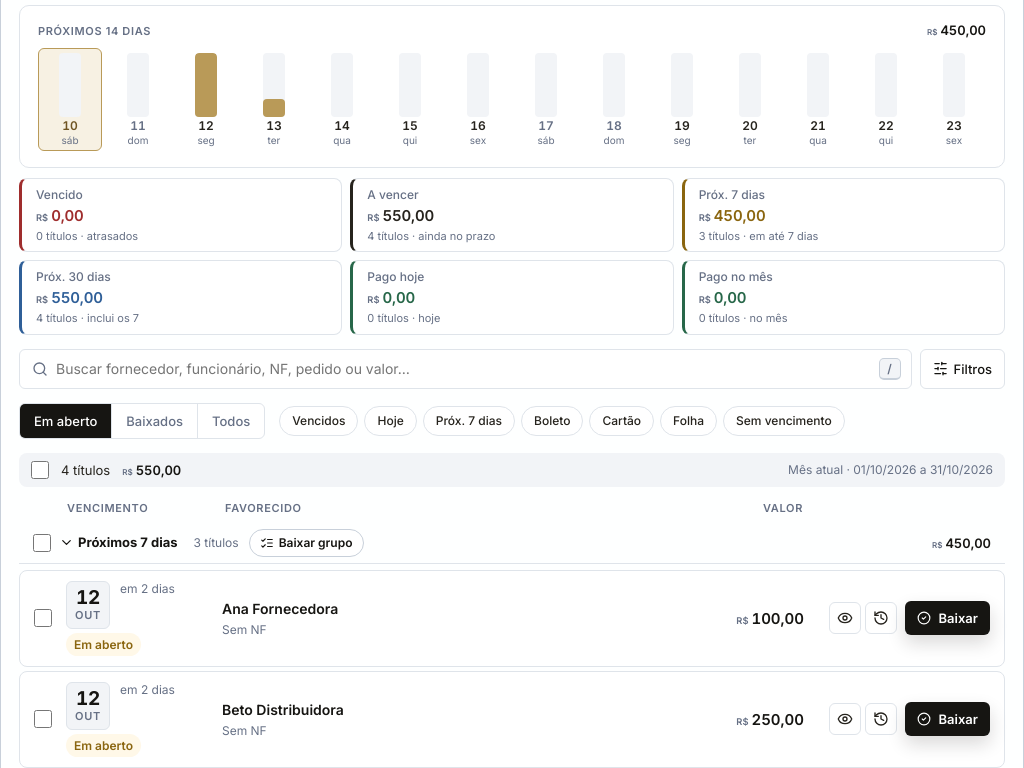
Test: Contas a Pagar — panorama › Baixar grupo seleciona só os títulos do grupo e abre o lote
The image size is (1024, 768).
(page scrolled)
Click the button named "Baixar os 3 títulos de \"Próximos 7 dias\"" at (306, 543), box [249,529,364,557]
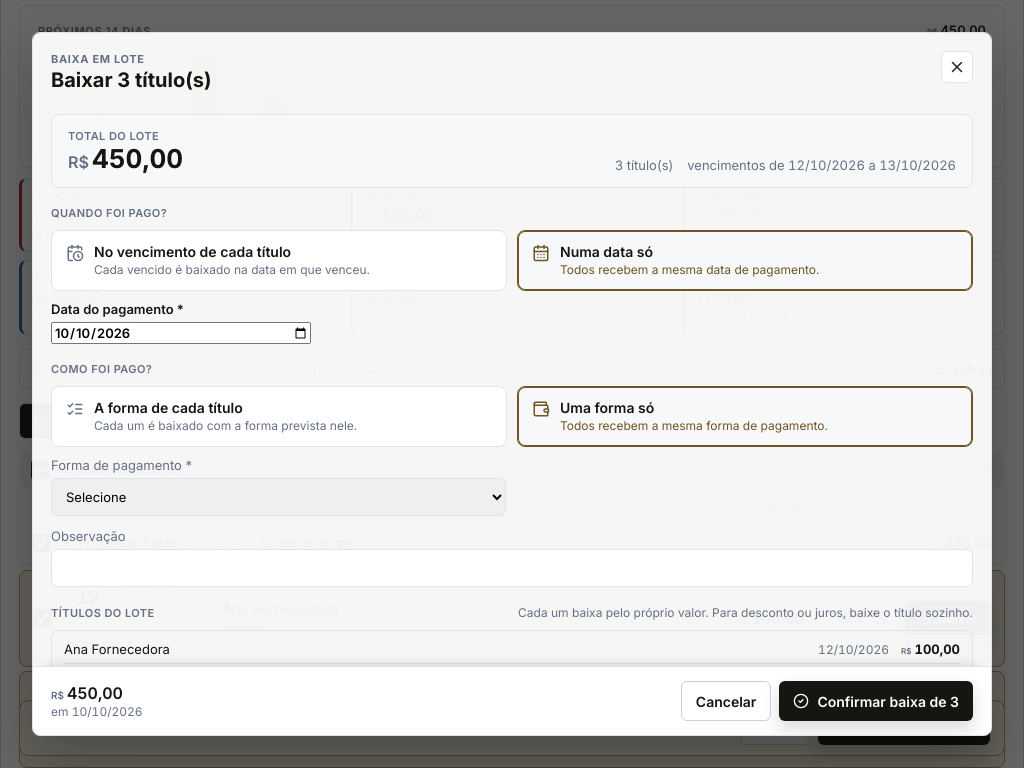
expect the heading "Baixar 3 título(s)" is shown: met, box [51,68,212,92]
